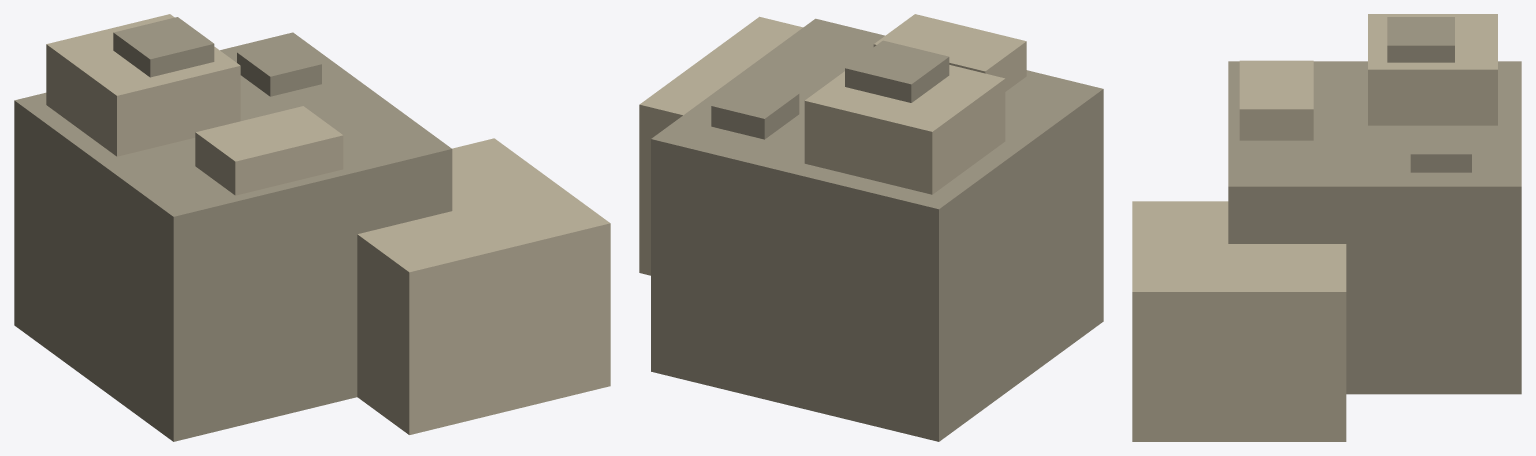
File: fbx_rock02.fbx
3 renders of one model, left to right at view 1: azimuth 30°, elevation 25°; view 2: azimuth 150°, elevation 25°; view 3: azimuth 270°, elevation 25°, orthographic. The views are drawn at different scales.
Visible parts, largest first — view 1: sm_rock02; view 2: sm_rock02; view 3: sm_rock02.
Boxes of the visible parts, x1,y1,x2,y2 form: sm_rock02: (14, 14, 610, 441); sm_rock02: (639, 14, 1103, 441); sm_rock02: (1132, 14, 1521, 441).
Bounding box in the file's own units: 78.79 × 59.47 × 74.89.
